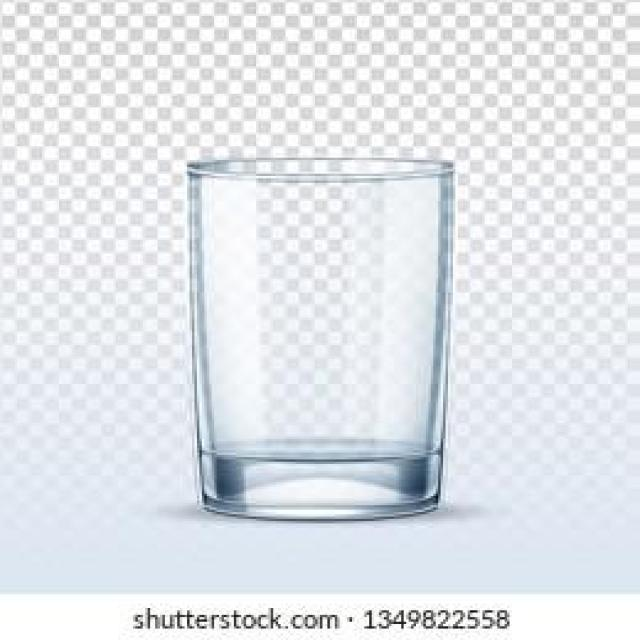Glass: (184, 155, 454, 522)
